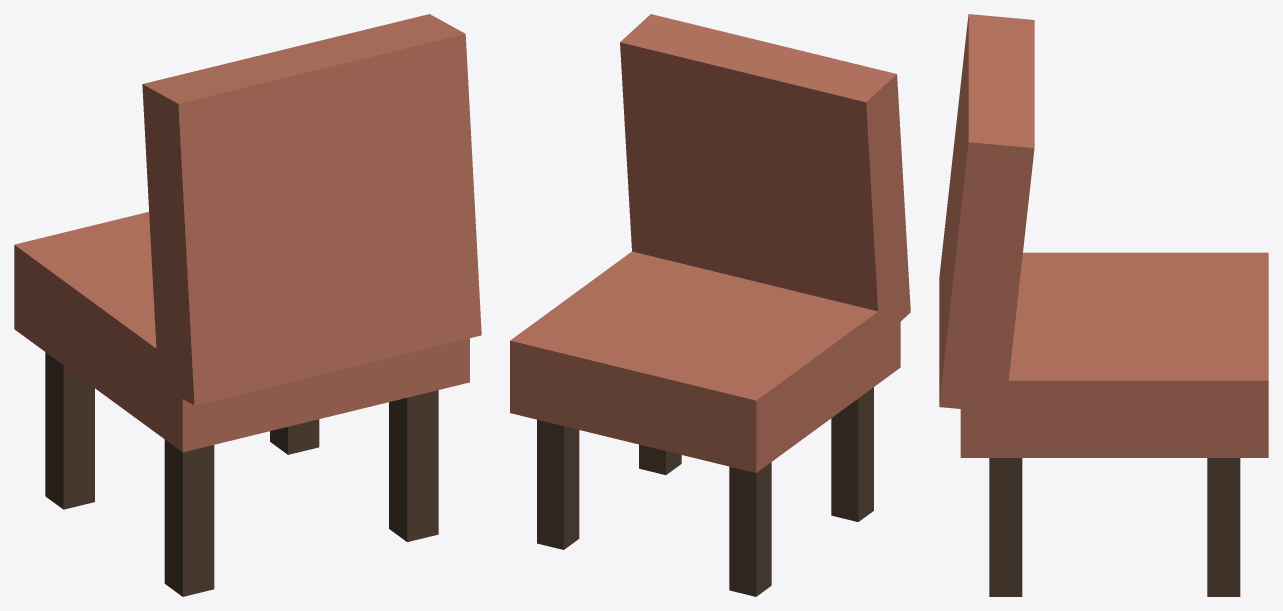
The model's file is chair.glb.
3 renders of one model, left to right at view 1: azimuth 30°, elevation 25°; view 2: azimuth 150°, elevation 25°; view 3: azimuth 270°, elevation 25°, orthographic. The views are drawn at different scales.
Parts seen in each view (by area): view 1: back, seat, leg (×4); view 2: back, seat, leg (×4); view 3: seat, back, leg (×2).
Boxes of the visible parts, left/top/right/bottom form: back: left=142, top=14, right=481, bottom=405; seat: left=14, top=212, right=469, bottom=452; leg (×4): left=45, top=352, right=438, bottom=596; back: left=620, top=14, right=910, bottom=339; seat: left=510, top=251, right=900, bottom=472; leg (×4): left=537, top=387, right=873, bottom=596; seat: left=960, top=252, right=1268, bottom=457; back: left=939, top=14, right=1034, bottom=412; leg (×2): left=989, top=458, right=1240, bottom=596.
Bounding box in the file's own units: 0.64 × 1.08 × 0.6956.
